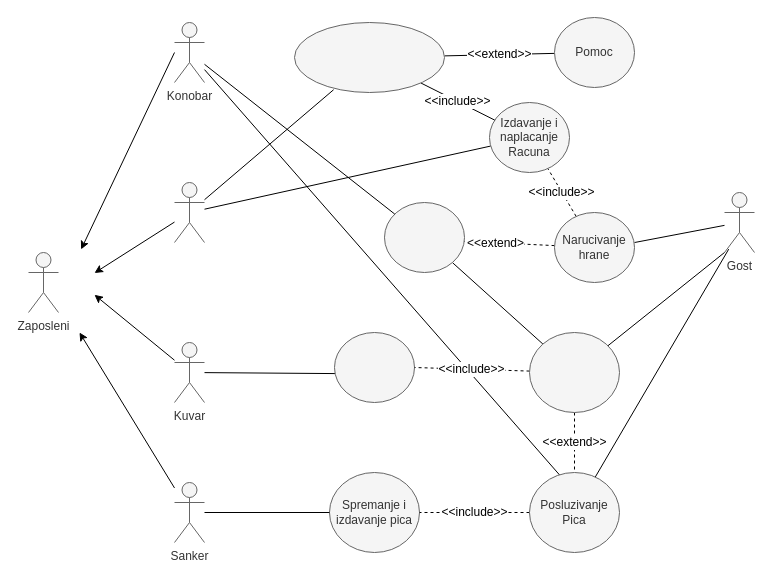
Image size: 772x581. Some labels were removed from this diagram. The centre of each missing label's shape, as x and y in pixels:
"Elektronska kasa ____________ Racunarska pomoc" belongs at pixel 369 57.
"Kasir" belongs at pixel 189 212.
"Narucivanje pica" belongs at pixel 424 237.
"Posluzivanje Hrane" belongs at pixel 574 372.
"Spremanje i izdavanje hrane" belongs at pixel 374 367.
